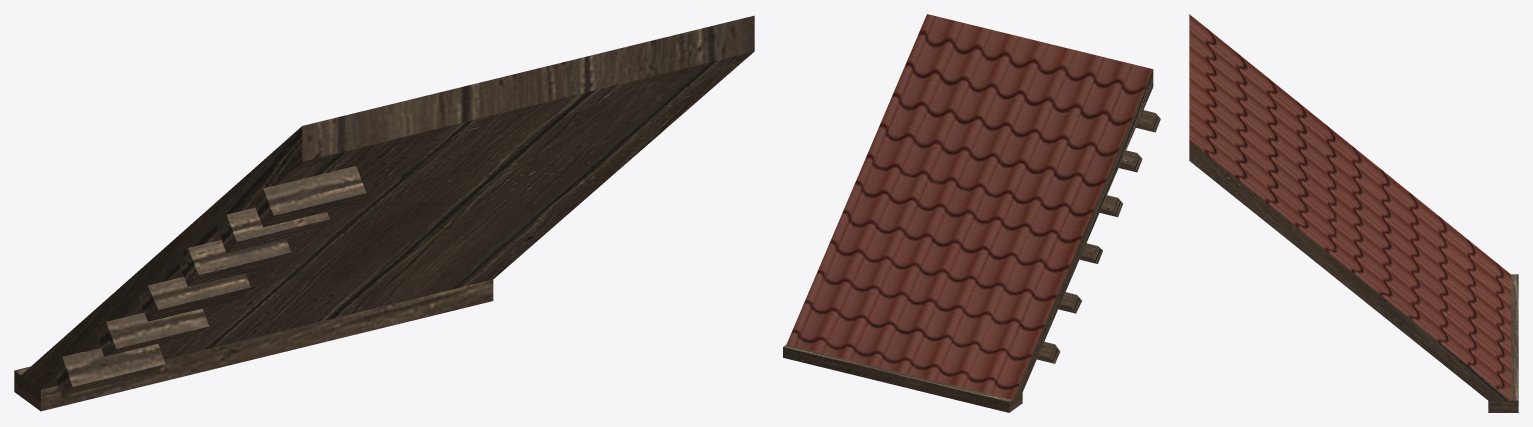
Rendered from ARC1010392.fbx.
3 views of the same model, side by side, from view 1: azimuth 30°, elevation 25°; view 2: azimuth 150°, elevation 25°; view 3: azimuth 270°, elevation 25° (orthographic). The views are drawn at different scales.
Visible parts, largest first — view 1: smARC1010392; view 2: smARC1010392; view 3: smARC1010392.
Part boxes in pixels (x1,y1,x2,y2): smARC1010392: [14, 15, 754, 411]; smARC1010392: [783, 14, 1160, 412]; smARC1010392: [1189, 14, 1518, 412].
Bounding box in the file's own units: 305 × 293 × 320.
Materials: 1 (1 with a texture image).
